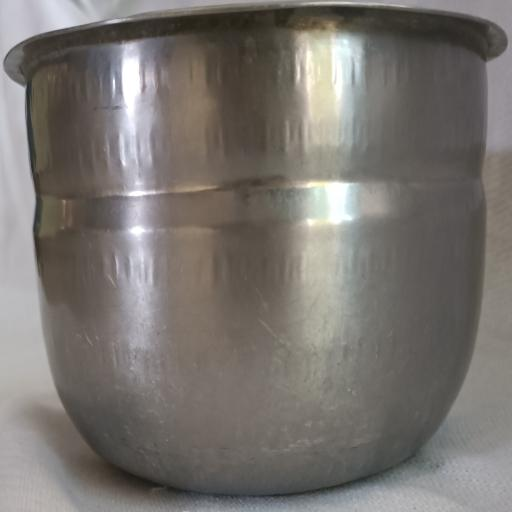vessel: (5, 3, 506, 494)
